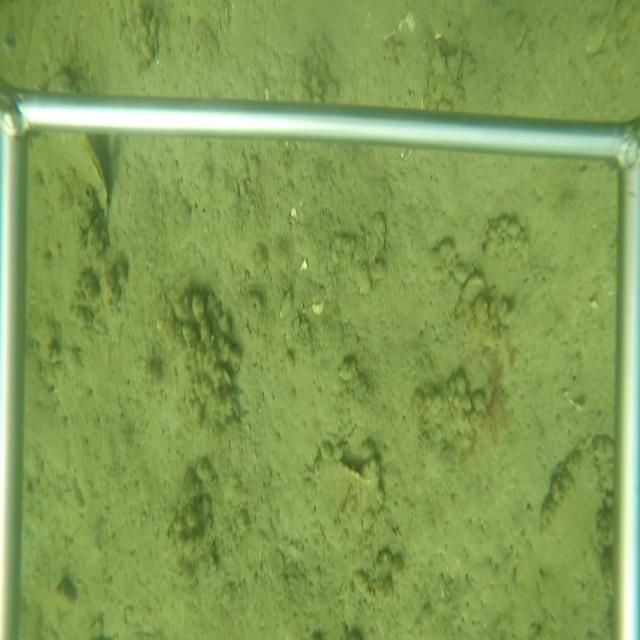Oyster-Closed: (61, 138, 114, 216)
